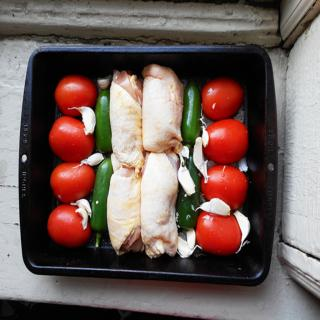tomato: (48, 116, 96, 162), (202, 164, 248, 211), (48, 160, 92, 208), (48, 204, 90, 248), (195, 214, 243, 252), (205, 119, 247, 162), (200, 78, 243, 120), (55, 74, 96, 114)
